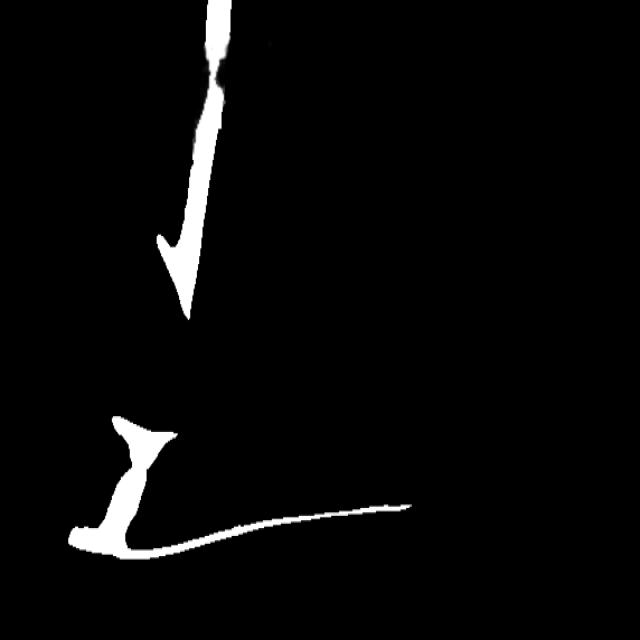sl: (199, 48, 234, 112)
